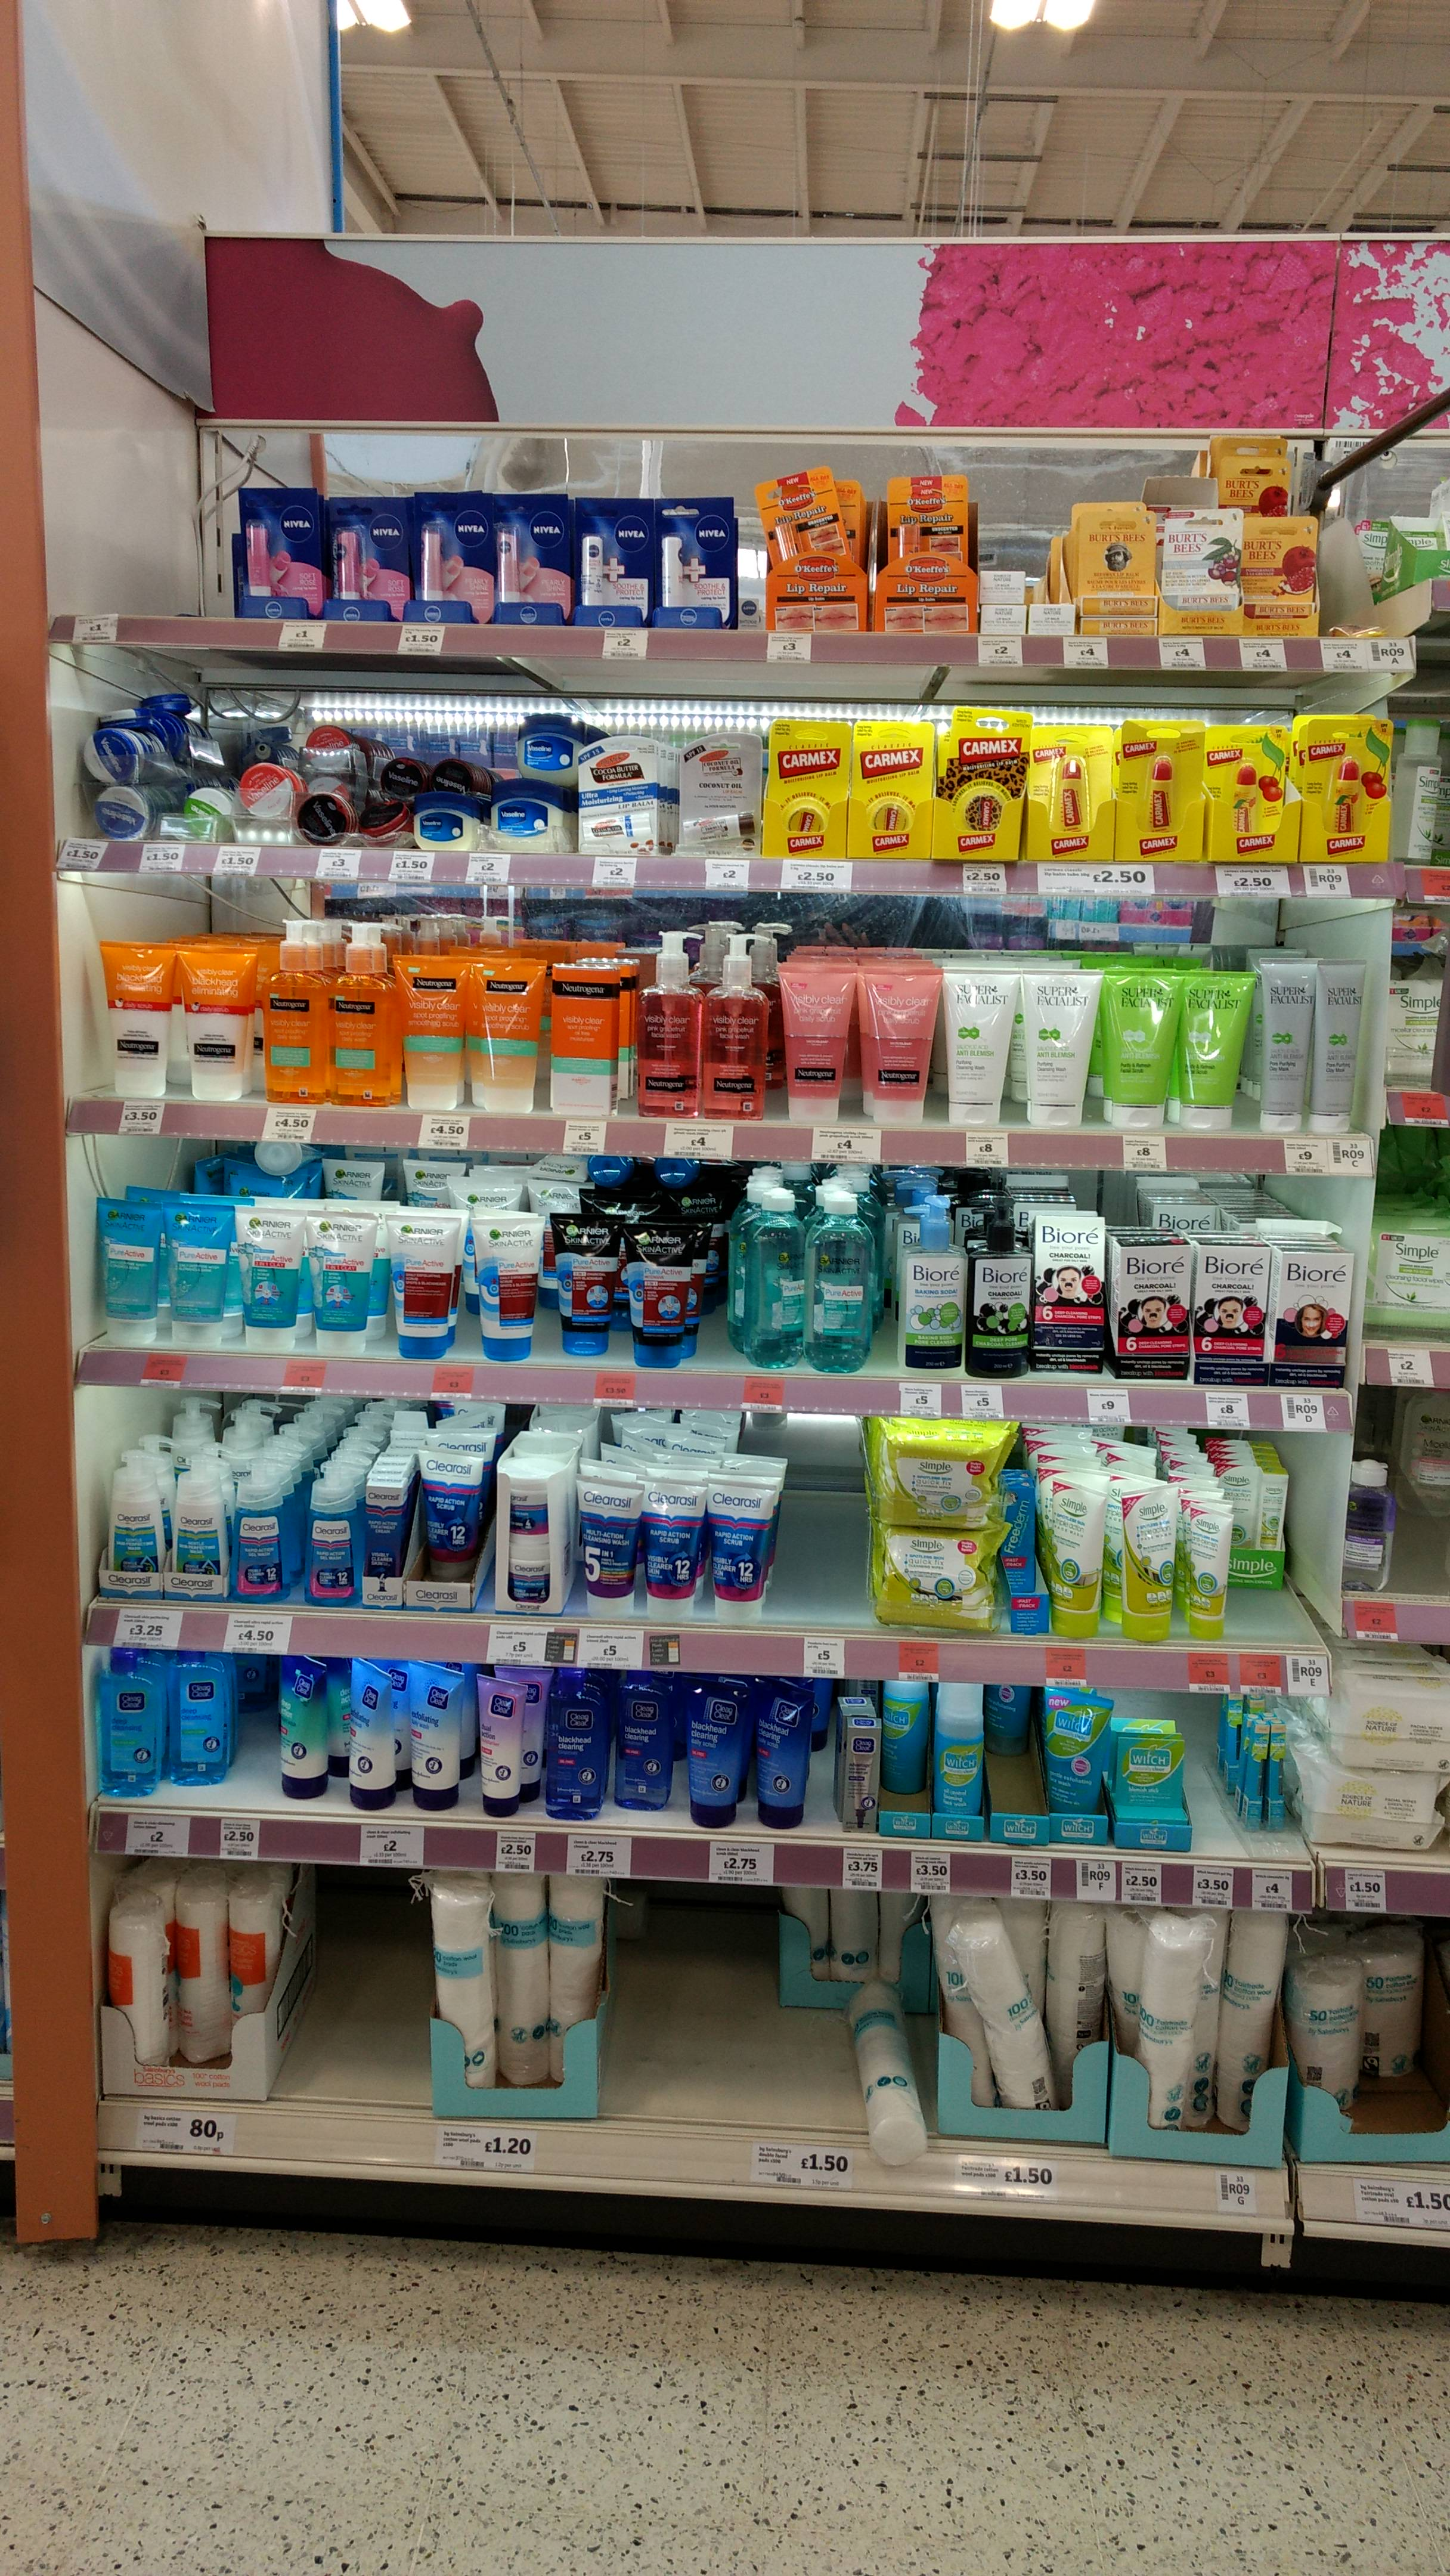product: (888, 483, 992, 656), (967, 1937, 1052, 2130), (840, 1989, 930, 2164), (775, 476, 865, 639), (1360, 1205, 1450, 1352), (426, 1886, 488, 2098), (1054, 1905, 1109, 2137), (1218, 724, 1303, 872), (863, 968, 942, 1125), (707, 934, 773, 1125), (1273, 1233, 1355, 1385), (1144, 1934, 1201, 2150), (1027, 718, 1110, 865), (1034, 1212, 1107, 1380), (256, 934, 327, 1106), (808, 1196, 877, 1371), (1119, 718, 1199, 867), (1312, 1767, 1450, 1852), (271, 1652, 343, 1813), (1190, 1244, 1268, 1392), (566, 497, 651, 632), (783, 964, 854, 1125), (1289, 1948, 1358, 2112), (1031, 975, 1103, 1131), (1240, 518, 1324, 651), (875, 1417, 981, 1523), (1183, 971, 1255, 1123), (937, 722, 1011, 869), (180, 943, 249, 1100), (743, 1191, 803, 1371), (902, 1205, 960, 1391), (1316, 952, 1379, 1122), (472, 962, 541, 1118), (552, 1882, 603, 2091), (637, 945, 695, 1125), (340, 936, 400, 1111), (677, 740, 762, 863), (410, 494, 486, 628), (854, 727, 932, 858), (493, 1879, 543, 2084), (886, 1537, 992, 1633), (393, 1215, 460, 1366), (1305, 722, 1381, 855), (115, 1902, 170, 2086), (614, 1677, 686, 1815), (104, 945, 172, 1093), (1328, 1684, 1450, 1766), (101, 1642, 164, 1798), (951, 977, 1017, 1125), (235, 1890, 288, 2072), (299, 1205, 361, 1361), (773, 725, 845, 858), (416, 1451, 479, 1599), (711, 1481, 778, 1621), (631, 1224, 697, 1368), (1229, 1913, 1270, 2143), (1367, 1937, 1431, 2084), (230, 1215, 294, 1361), (1263, 952, 1316, 1125), (1121, 1242, 1188, 1378), (90, 1208, 154, 1352), (686, 1688, 748, 1835), (472, 1212, 530, 1368), (246, 501, 324, 617), (584, 732, 661, 849), (1165, 520, 1243, 635), (495, 499, 564, 628), (1086, 504, 1156, 630), (329, 502, 405, 617), (1050, 1486, 1107, 1640), (1123, 1493, 1181, 1642), (499, 1465, 557, 1614), (652, 502, 721, 628), (295, 1465, 355, 1608), (562, 971, 621, 1118), (408, 962, 463, 1118), (1116, 973, 1174, 1118), (552, 1223, 610, 1366), (1392, 948, 1450, 1092), (576, 1486, 638, 1621), (177, 1882, 223, 2063), (403, 1667, 463, 1805), (642, 1479, 700, 1619), (170, 1192, 221, 1350), (1392, 722, 1450, 860), (172, 1654, 230, 1792), (974, 1223, 1026, 1378), (170, 1456, 225, 1601), (111, 1451, 163, 1605), (347, 1656, 396, 1815), (235, 1465, 290, 1608), (760, 1688, 813, 1835), (1346, 1454, 1397, 1598), (1054, 1700, 1112, 1824), (1118, 1743, 1190, 1842), (472, 1688, 525, 1812), (552, 1681, 598, 1822), (1231, 1472, 1289, 1583), (771, 1886, 833, 1990), (937, 1688, 981, 1831), (1400, 1403, 1450, 1529), (1006, 1483, 1043, 1642), (1187, 1504, 1224, 1654), (90, 786, 168, 855), (884, 1688, 932, 1799), (490, 791, 575, 853), (364, 1468, 400, 1617), (1222, 441, 1293, 511), (835, 1890, 882, 1983), (513, 711, 575, 782), (881, 1893, 925, 1987), (242, 771, 301, 842), (840, 1725, 877, 1833), (419, 798, 485, 856), (90, 718, 147, 782), (527, 1670, 550, 1805), (302, 778, 352, 839), (256, 1143, 336, 1180), (992, 1677, 1031, 1750), (180, 794, 235, 846), (656, 1157, 721, 1196), (1270, 1718, 1293, 1824), (1245, 1718, 1266, 1833), (368, 801, 410, 846), (534, 1155, 589, 1185), (382, 761, 421, 798), (430, 761, 477, 791), (594, 1157, 633, 1189)
